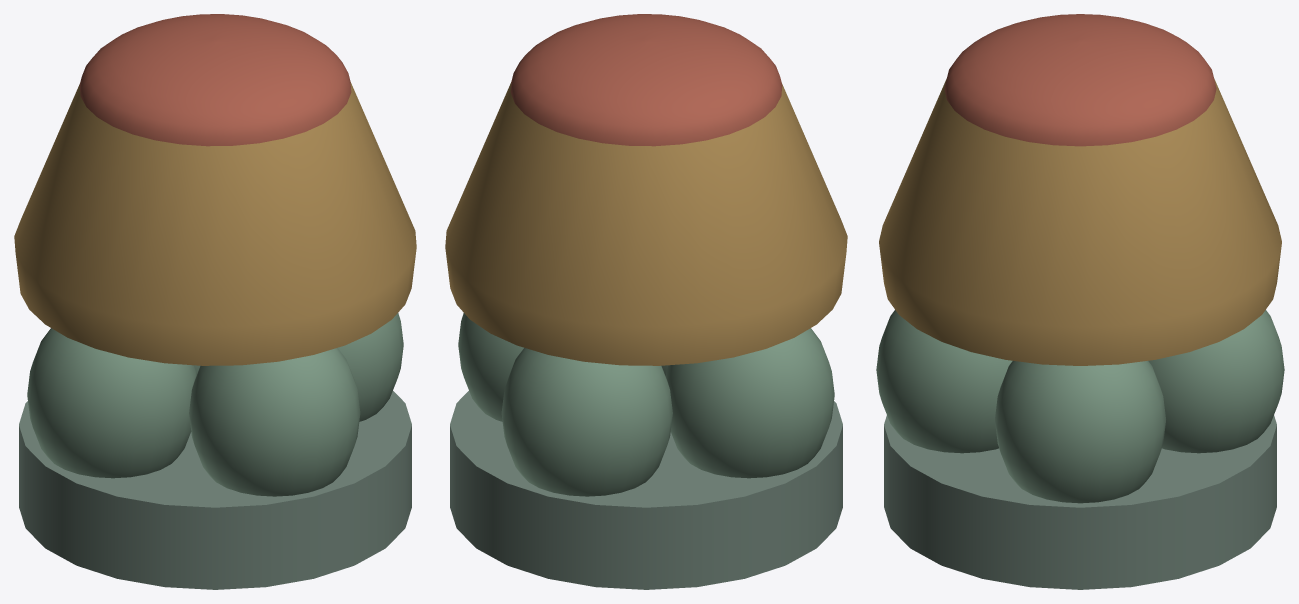
3 renders of one model, left to right at view 1: azimuth 30°, elevation 25°; view 2: azimuth 150°, elevation 25°; view 3: azimuth 270°, elevation 25°, orthographic.
Visible parts, largest first — view 1: Storage upper hood, Storage belt, Storage hood cap, Exposed storage bulb.003, Exposed storage bulb.002, Exposed storage bulb; view 2: Storage upper hood, Storage belt, Storage hood cap, Exposed storage bulb.001, Exposed storage bulb.002, Exposed storage bulb; view 3: Storage upper hood, Storage belt, Storage hood cap, Exposed storage bulb, Exposed storage bulb.001, Exposed storage bulb.003.
Part boxes in pixels (<box>): Storage upper hood: <box>14,82,416,365</box>; Storage belt: <box>19,391,411,589</box>; Storage hood cap: <box>79,14,351,146</box>; Exposed storage bulb.003: <box>189,348,360,496</box>; Exposed storage bulb.002: <box>27,328,196,478</box>; Exposed storage bulb: <box>338,313,403,421</box>; Storage upper hood: <box>445,82,847,365</box>; Storage belt: <box>450,391,842,589</box>; Storage hood cap: <box>510,14,782,146</box>; Exposed storage bulb.001: <box>501,348,672,496</box>; Exposed storage bulb.002: <box>665,328,834,478</box>; Exposed storage bulb: <box>458,313,523,421</box>; Storage upper hood: <box>879,79,1281,365</box>; Storage belt: <box>884,415,1276,589</box>; Storage hood cap: <box>944,14,1216,146</box>; Exposed storage bulb: <box>995,361,1165,503</box>; Exposed storage bulb.001: <box>1148,310,1284,453</box>; Exposed storage bulb.003: <box>876,310,1012,453</box>.
Bounding box in the file's own units: 1.62 × 2.04 × 1.62.
